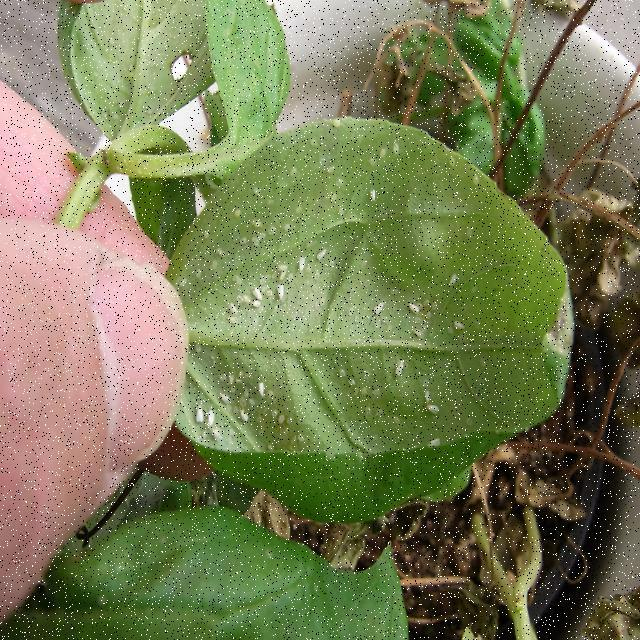Whiteflies: (192, 116, 522, 507)
